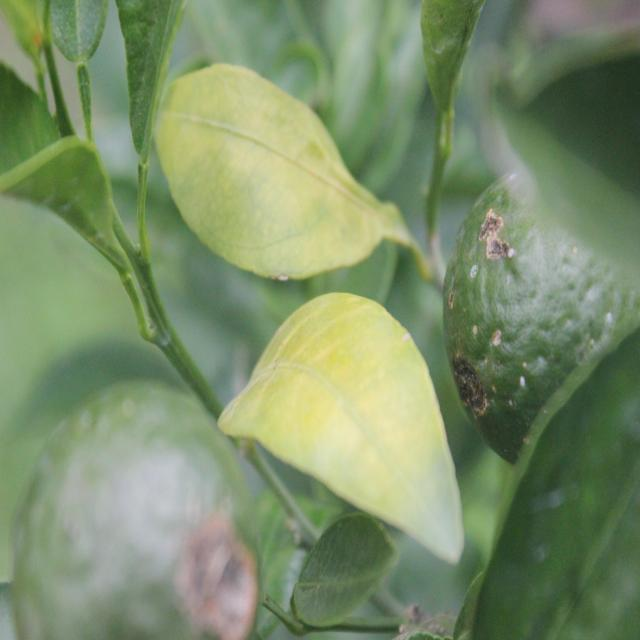greening: (157, 74, 409, 282), (240, 301, 436, 512)
